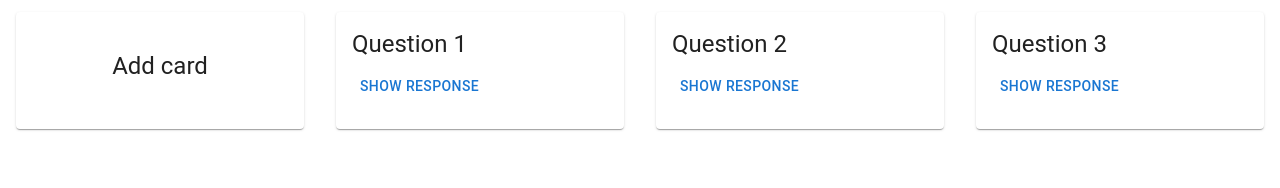
Test: when response is visible user can click hide resoponse button
Click the button "Show response" below "Question 1" at (420,87), box [352, 68, 487, 105]
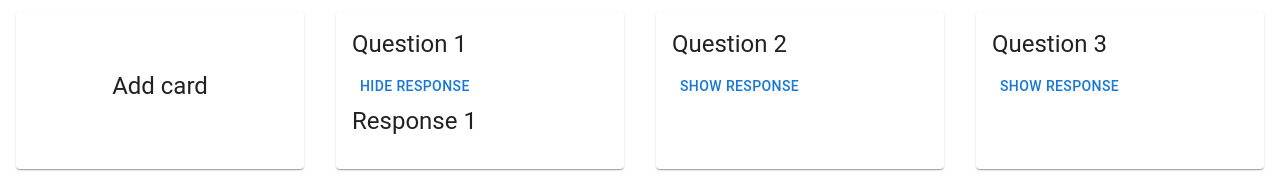
Click the button "Hide response" at (415,87), box [352, 68, 478, 105]
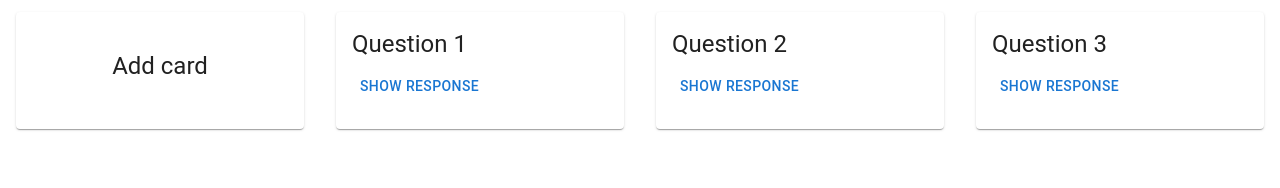
Check: the heading "Response 1" is gone
